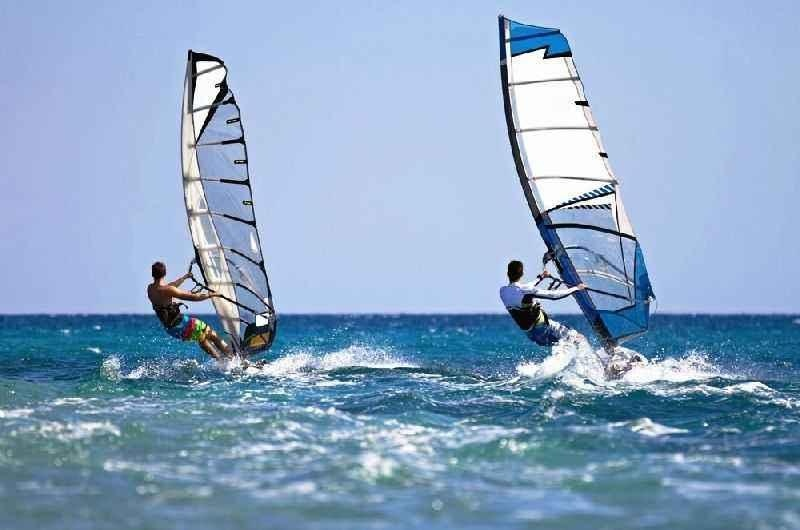fanchuan: (496, 12, 659, 361), (145, 44, 286, 386)
person: (496, 259, 600, 363), (149, 260, 239, 364)
